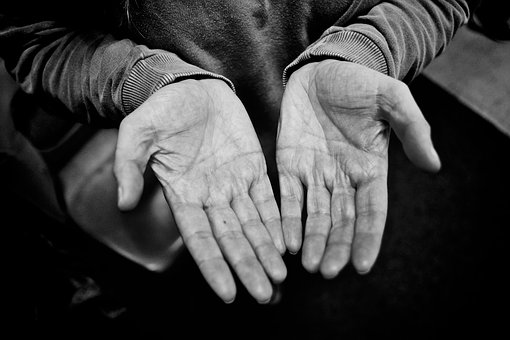palm: (282, 75, 399, 202), (153, 83, 260, 201)
